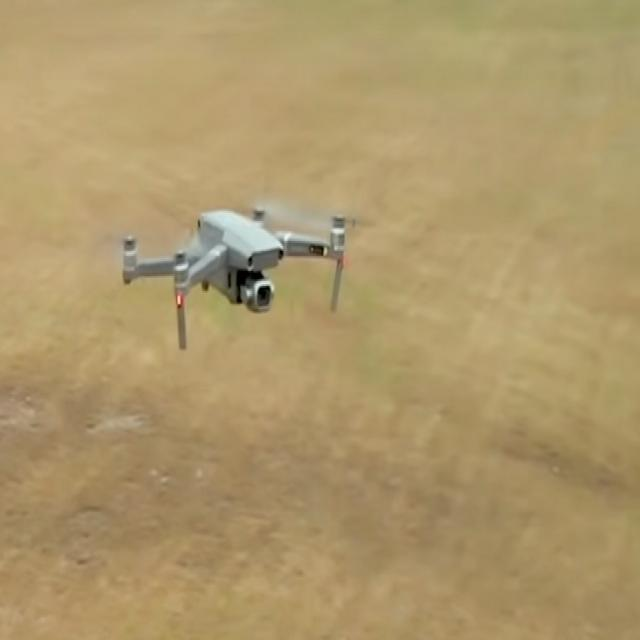drone: (99, 159, 388, 363)
